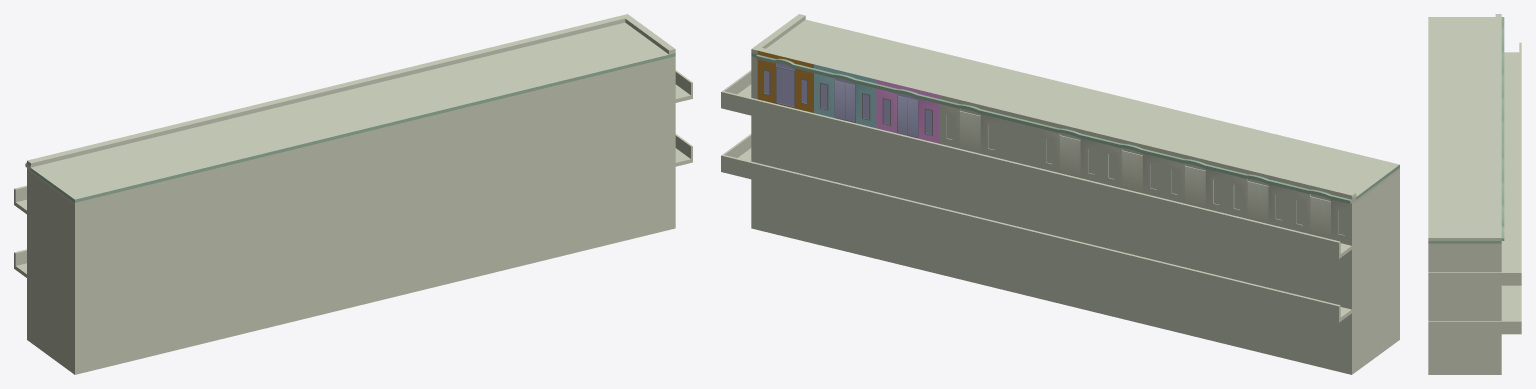
File: old chineses apartment.fbx
The picture shows the model from 3 angles, left to right: view 1: azimuth 30°, elevation 25°; view 2: azimuth 150°, elevation 25°; view 3: azimuth 270°, elevation 25°; orthographic projection. The views are drawn at different scales.
Parts seen in each view (by area): view 1: Cube.002; view 2: Cube.002; view 3: Cube.002.
Part boxes in pixels (left/top/right/bottom): Cube.002: left=14, top=14, right=692, bottom=374; Cube.002: left=721, top=14, right=1399, bottom=374; Cube.002: left=1428, top=14, right=1521, bottom=374.
Size of the model in its own units: 2037 by 564 by 347.
